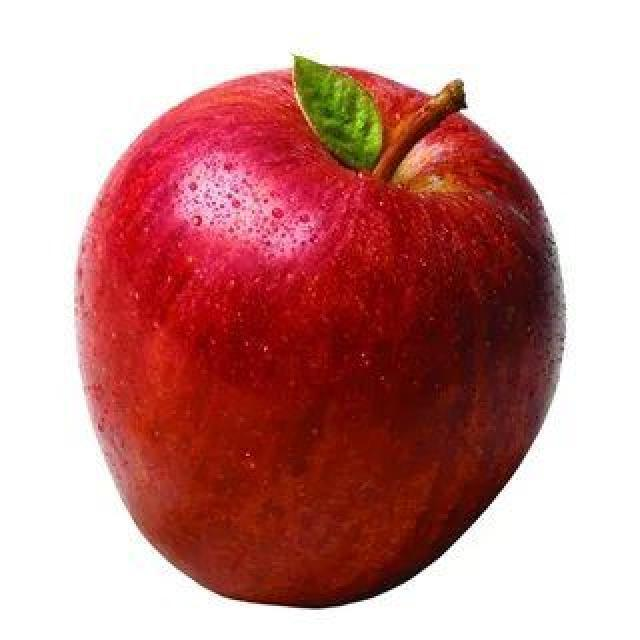Fresh Apple: (59, 68, 558, 595)
